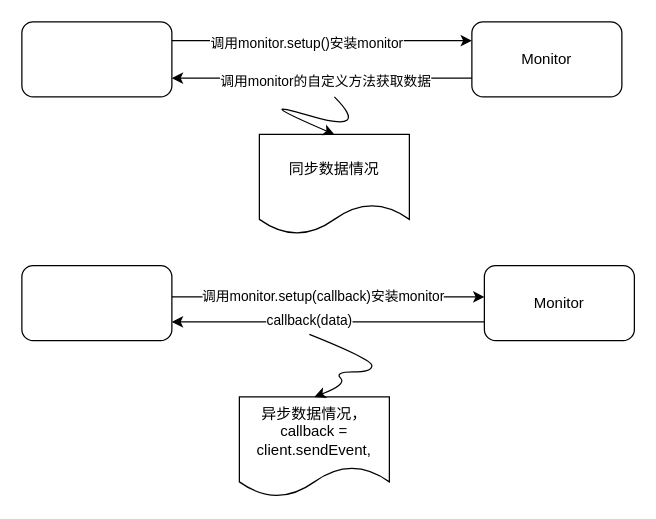
Image size: 656x519. Some labels were removed from this diagram. Here are the shapes that lost their labels. From the top down, the centre of each, then its label:
At [96,59]: "Slardar实例".
At [96,302]: "Slardar实例 （包含client实例）".
